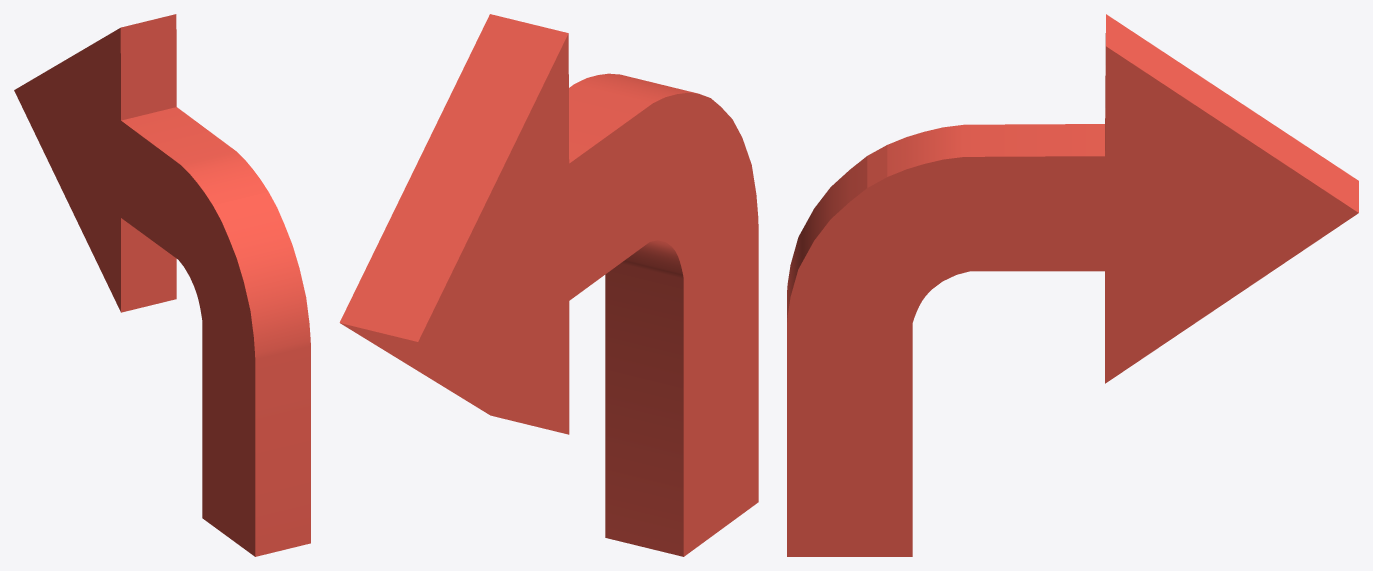
File: rasvorot.fbx
3 renders of one model, left to right at view 1: azimuth 30°, elevation 25°; view 2: azimuth 150°, elevation 25°; view 3: azimuth 270°, elevation 25°, orthographic. The views are drawn at different scales.
Visible parts, largest first — view 1: Plane; view 2: Plane; view 3: Plane.
Part boxes in pixels (<box>): Plane: <box>14,14,310,556</box>; Plane: <box>339,14,758,556</box>; Plane: <box>787,14,1358,556</box>.
Size of the model in its own units: 0.08 by 0.5915 by 0.6002.
